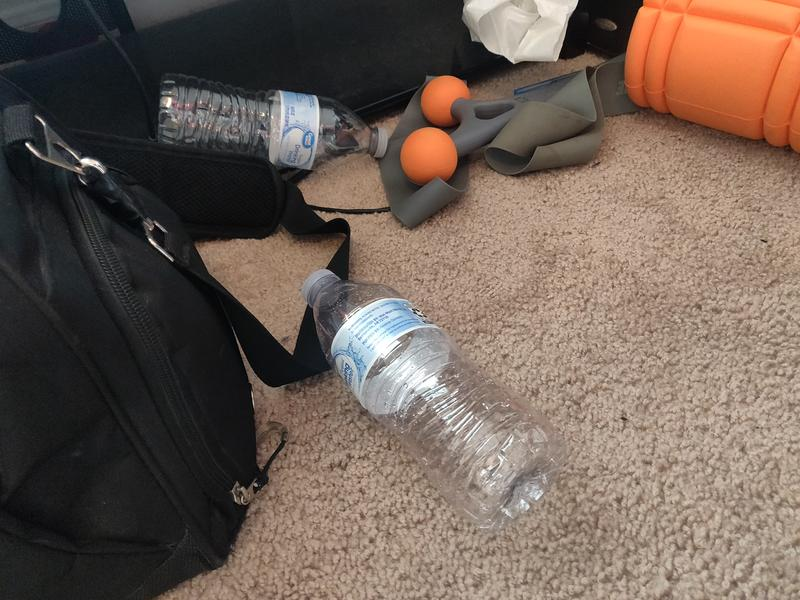bottle: (301, 269, 569, 530), (155, 72, 388, 172)
